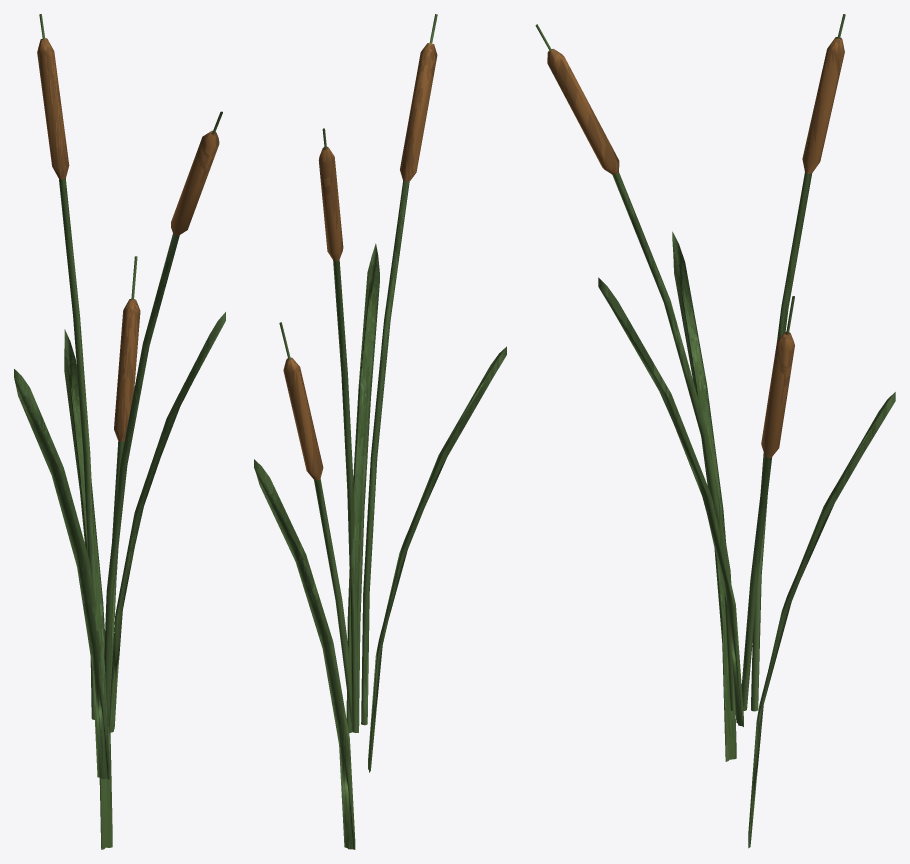
File: Juncos.fbx
3 views of the same model, side by side, from view 1: azimuth 30°, elevation 25°; view 2: azimuth 150°, elevation 25°; view 3: azimuth 270°, elevation 25° (orthographic). The views are drawn at different scales.
Parts seen in each view (by area): view 1: Juncos; view 2: Juncos; view 3: Juncos.
Part boxes in pixels (x1,y1,x2,y2): Juncos: (14, 14, 225, 849); Juncos: (254, 14, 506, 849); Juncos: (535, 14, 895, 848).
Size of the model in its own units: 29.02 by 123 by 48.48.
Materials: 1 (1 with a texture image).
